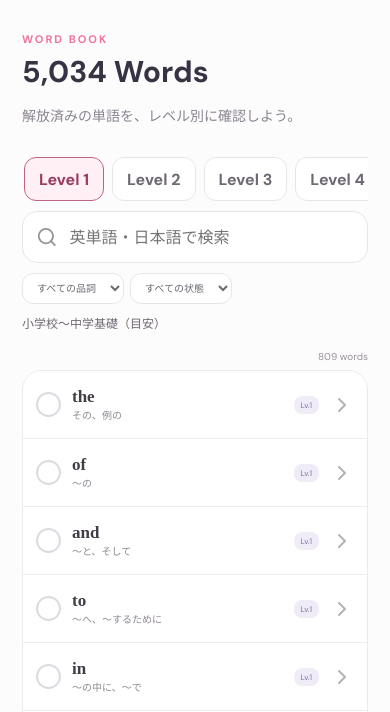
Test case: shows the usage note for staff while keeping its alternate meanings
Step 1. Click the tab with id "word-level-2" → click(154, 179), box [112,157,196,201]
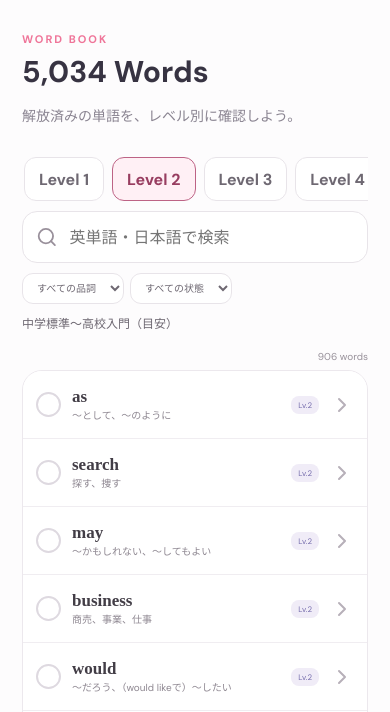
Step 2. Type "staff" into the field with placeholder "英単語・日本語で検索" → (211, 237), box [68,212,354,262]
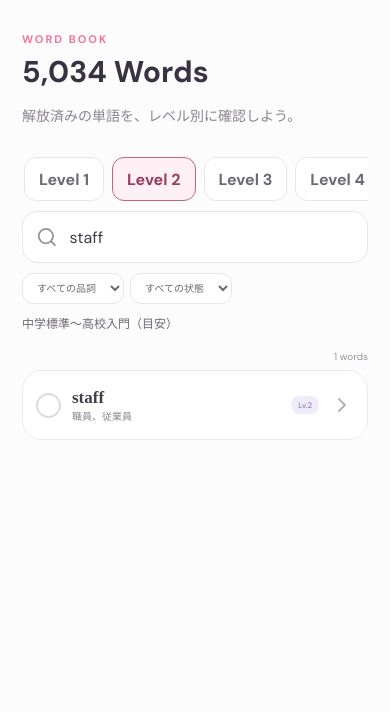
Step 3. Click the button "staff 職員、従業員 Lv.2" → click(88, 397), box [23,371,367,439]
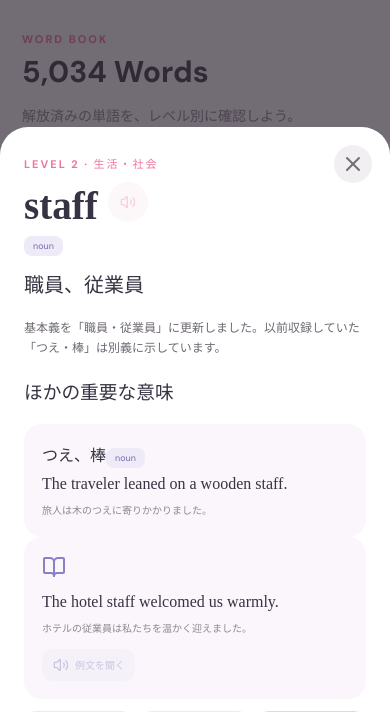
Expected: the heading "職員、従業員" is shown, [24,272,144,298]
